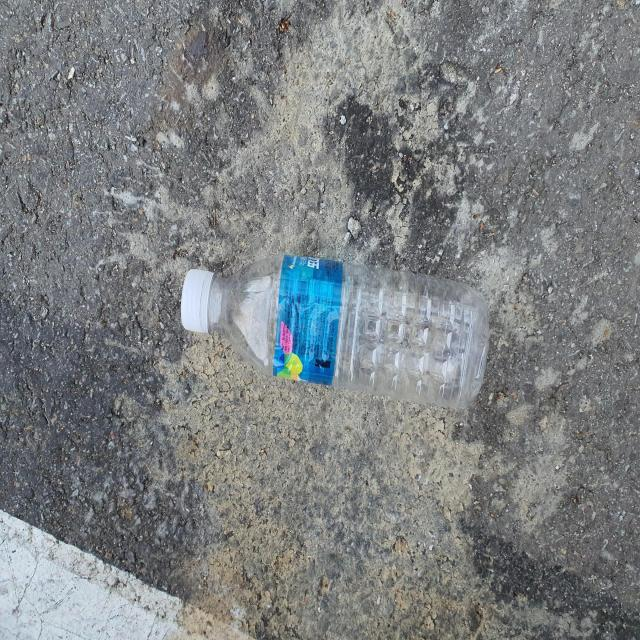plastic: (181, 255, 490, 408)
